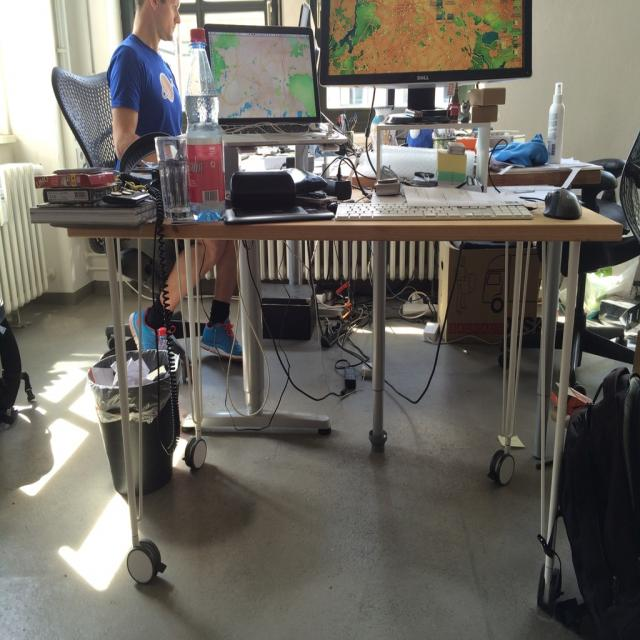desk: (77, 158, 572, 554)
keyboard: (400, 190, 533, 218)
laptop: (204, 27, 334, 139)
mouse: (543, 188, 582, 220)
person: (106, 1, 186, 167)
tv: (315, 0, 534, 107), (202, 25, 334, 139)
